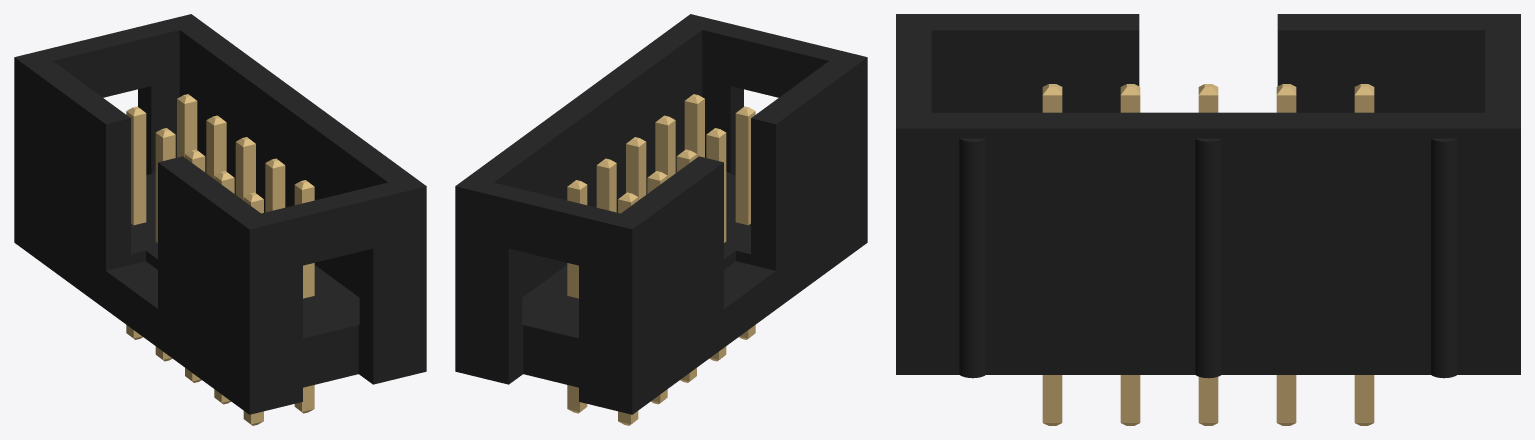
The model's file is idc_header_2x05_p2_54mm_vertical.glb.
The picture shows the model from 3 angles, left to right: view 1: azimuth 30°, elevation 25°; view 2: azimuth 150°, elevation 25°; view 3: azimuth 270°, elevation 25°; orthographic projection. The views are drawn at different scales.
Visible parts, largest first — view 1: conn_idc_2x05; view 2: conn_idc_2x05; view 3: conn_idc_2x05, pin_2, pin_4, pin_8, pin_10, pin_6.
Boxes of the visible parts, box(x1,y1,x2,y2) form: conn_idc_2x05: box(14, 14, 426, 414); conn_idc_2x05: box(455, 14, 867, 414); conn_idc_2x05: box(896, 14, 1520, 378); pin_2: box(1354, 375, 1374, 425); pin_4: box(1276, 375, 1296, 425); pin_8: box(1120, 375, 1140, 425); pin_10: box(1042, 375, 1062, 425); pin_6: box(1198, 377, 1218, 425).
Size of the model in its own units: 0.0091 by 0.0121 by 0.0204.
